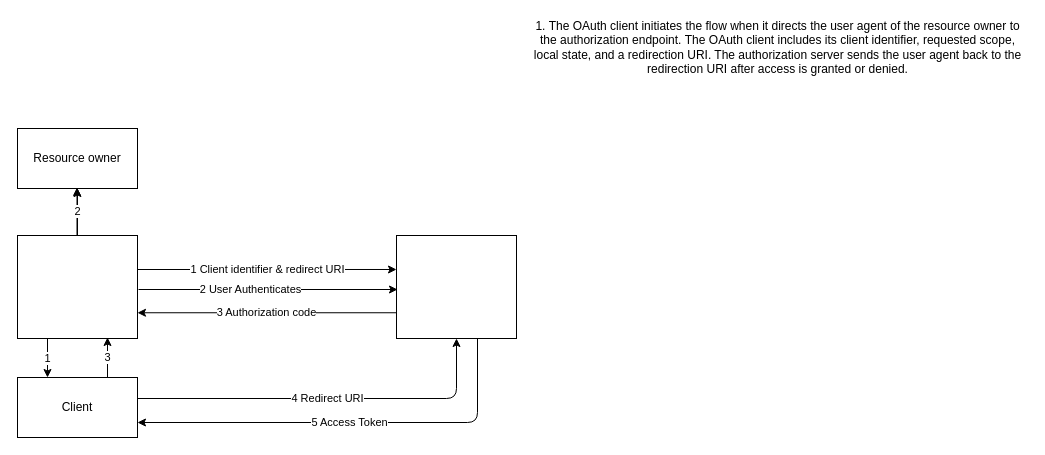
Some shapes in this 1045 by 455 pixel diagram are drawn without their labels. The centre of each missing label's shape, as x and y in pixels:
"Authorization server" goes at point 456,286.
"User agent" goes at point 77,286.
